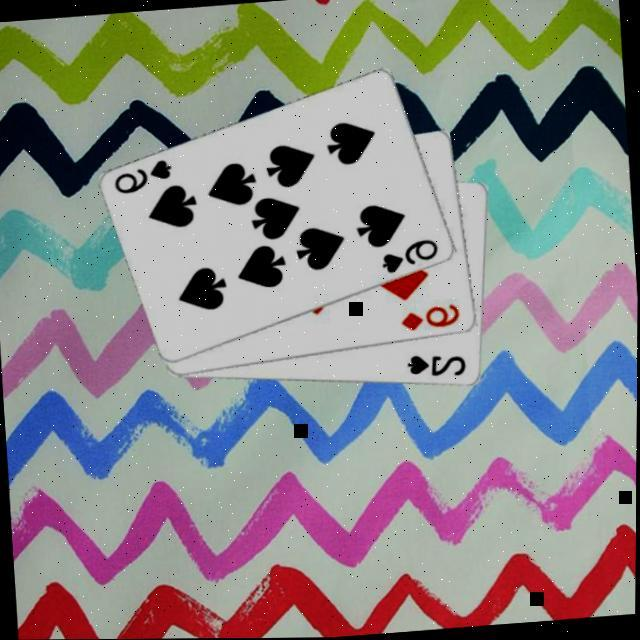2S: (402, 348, 468, 382)
6D: (395, 300, 461, 334)
9S: (109, 156, 174, 197), (376, 235, 440, 276)
